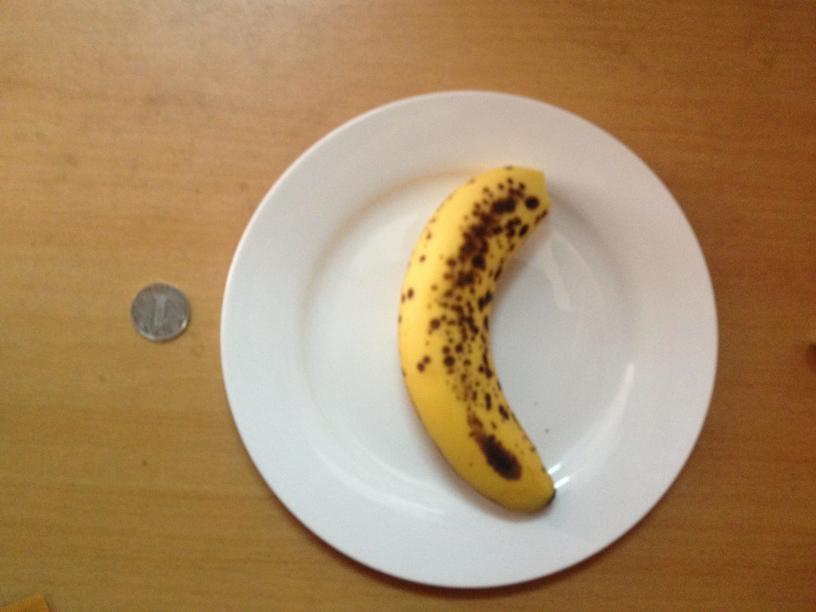banana: (398, 167, 556, 511)
coin: (131, 283, 191, 340)
